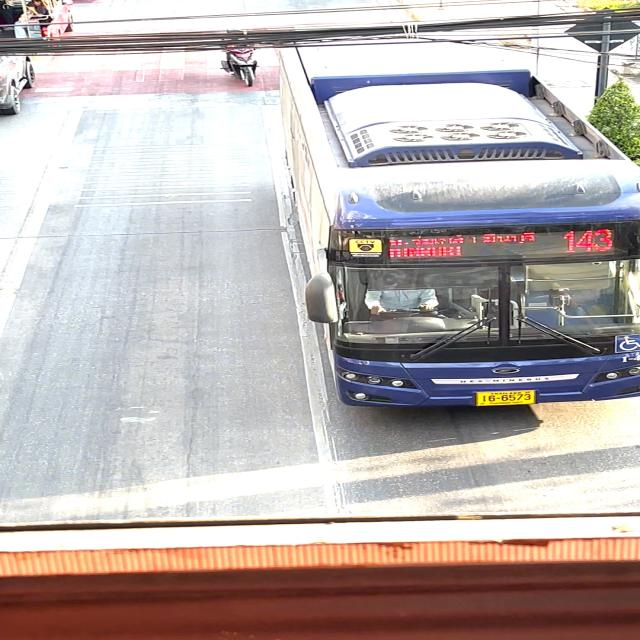car: (255, 42, 640, 414)
